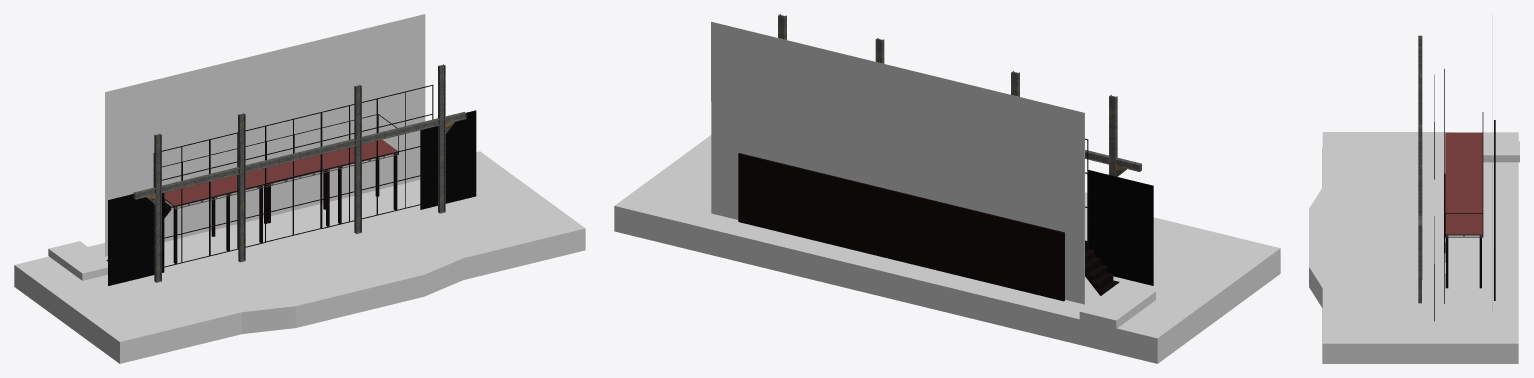
The model's file is theatre_set.glb.
3 renders of one model, left to right at view 1: azimuth 30°, elevation 25°; view 2: azimuth 150°, elevation 25°; view 3: azimuth 270°, elevation 25°, orthographic. The views are drawn at different scales.
Visible parts, largest first — view 1: skfb_offset; view 2: skfb_offset; view 3: skfb_offset.
Boxes of the visible parts, bbox=[...] form: skfb_offset: bbox=[14, 14, 585, 363]; skfb_offset: bbox=[614, 14, 1280, 363]; skfb_offset: bbox=[1309, 14, 1519, 363].
Size of the model in its own units: 20333 by 7773 by 8571.
6 materials, 1 textured.
